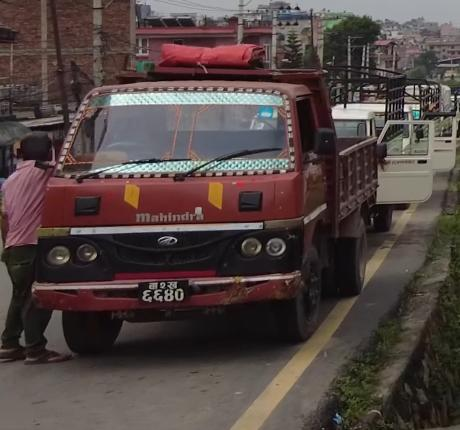mini_truck: (27, 51, 399, 354)
